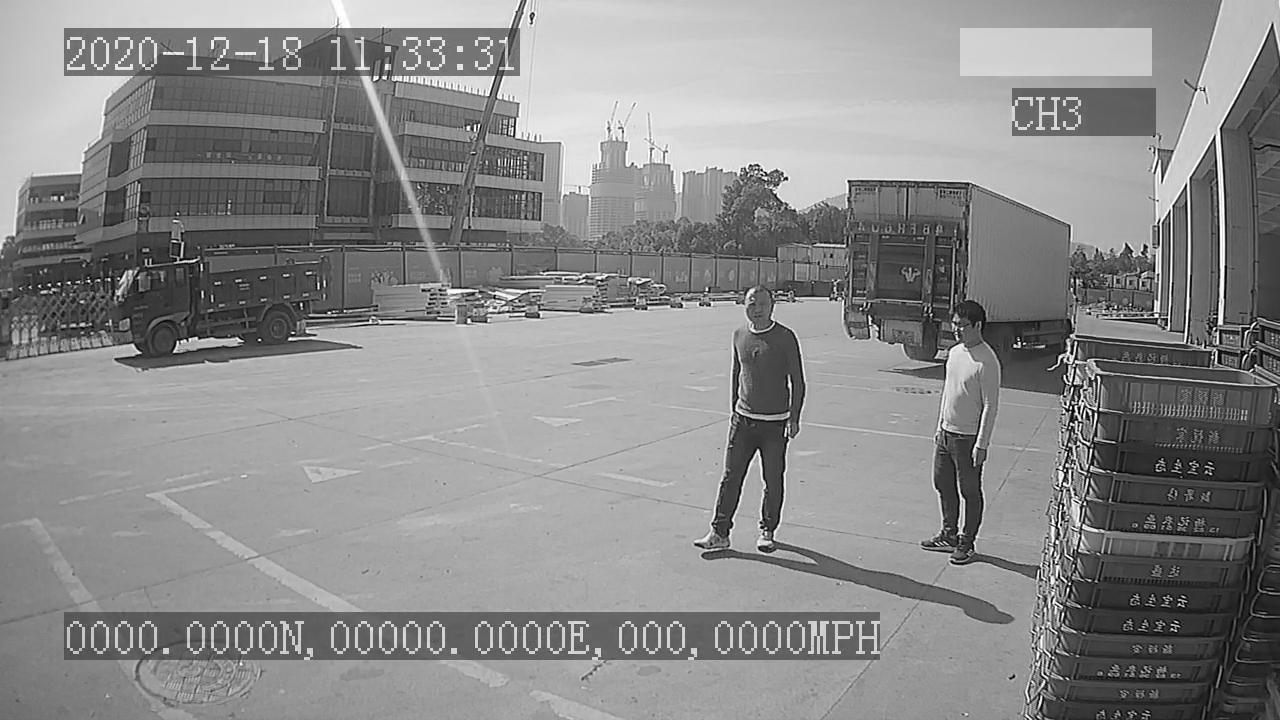person: (696, 283, 810, 567)
